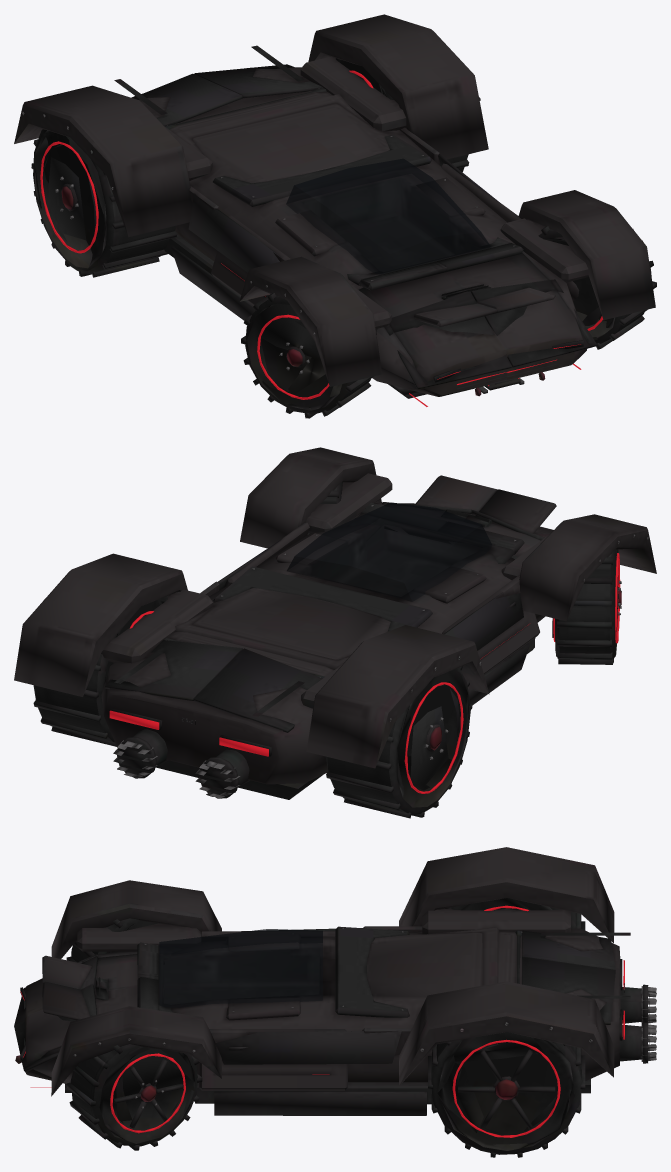
Rendered from CRX1_interceptor_stealth_lod1.glb.
The picture shows the model from 3 angles, top to bottom: view 1: azimuth 30°, elevation 25°; view 2: azimuth 150°, elevation 25°; view 3: azimuth 270°, elevation 25°; orthographic projection. The views are drawn at different scales.
Visible parts, largest first — view 1: CRX1_interceptor_stealth_LOD1; view 2: CRX1_interceptor_stealth_LOD1; view 3: CRX1_interceptor_stealth_LOD1.
Boxes of the visible parts, <box> form: CRX1_interceptor_stealth_LOD1: <box>14,14,656,418</box>; CRX1_interceptor_stealth_LOD1: <box>14,447,656,818</box>; CRX1_interceptor_stealth_LOD1: <box>14,847,656,1157</box>.
Bounding box in the file's own units: 4.08 × 1.63 × 6.48.
Materials: 3 (3 with a texture image).
